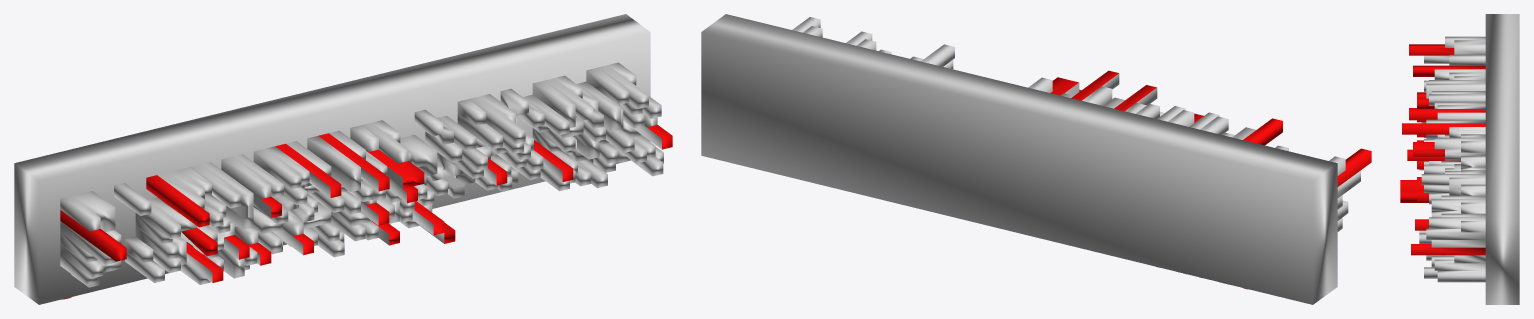
Rendered from 3DRX-2023.glb.
The picture shows the model from 3 angles, left to right: view 1: azimuth 30°, elevation 25°; view 2: azimuth 150°, elevation 25°; view 3: azimuth 270°, elevation 25°; orthographic projection. The views are drawn at different scales.
Bounding box in the file's own units: 142 × 28.5 × 35.
